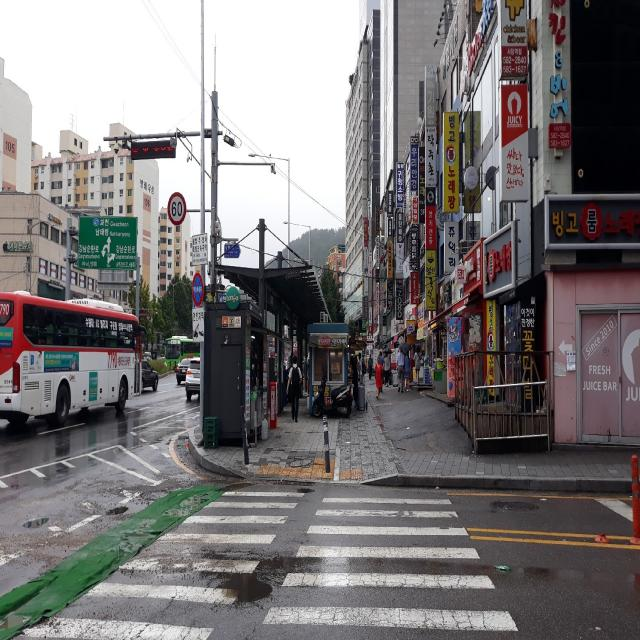횡단보도: (24, 488, 517, 640)
